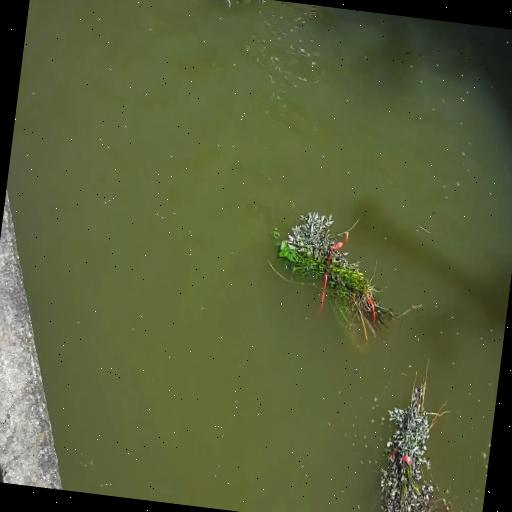twig: (263, 202, 423, 340), (371, 354, 470, 512)
